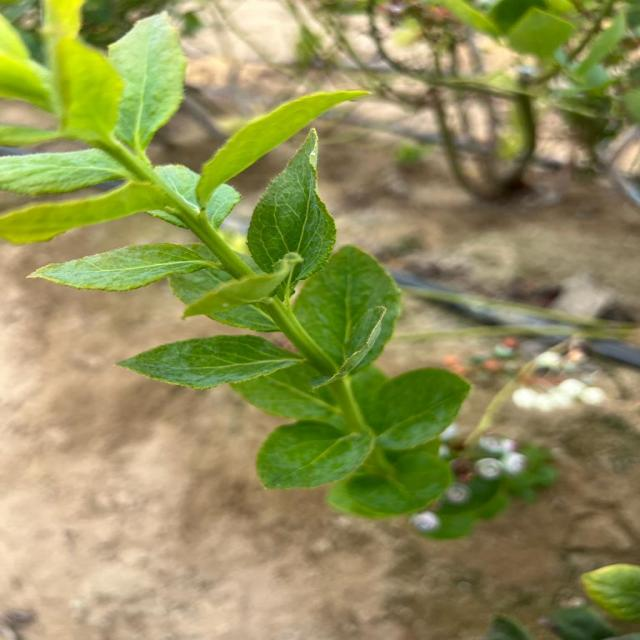Hojas sanas sin oidiosis: (0, 7, 370, 385), (249, 420, 373, 490)
